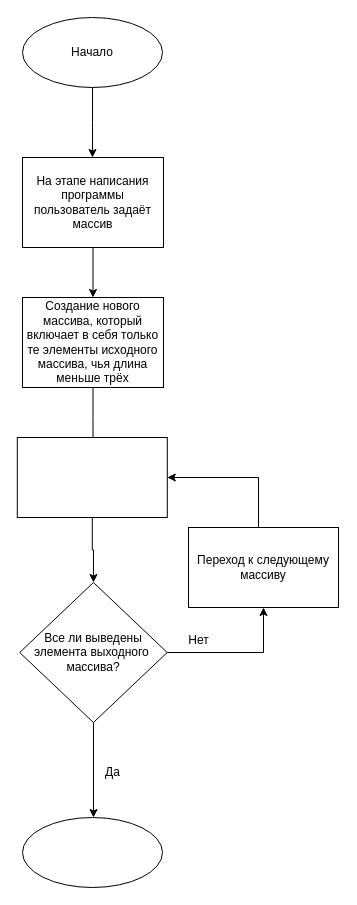
Some shapes in this 357 by 905 pixel diagram are drawn without their labels. The shapes that lost their labels are listed below. From the top down, each one's centre as x and y in pixels, then its label:
At point (91, 477): "Вывод текущего элемента из выходного массиве".
At point (92, 852): "Конец".
